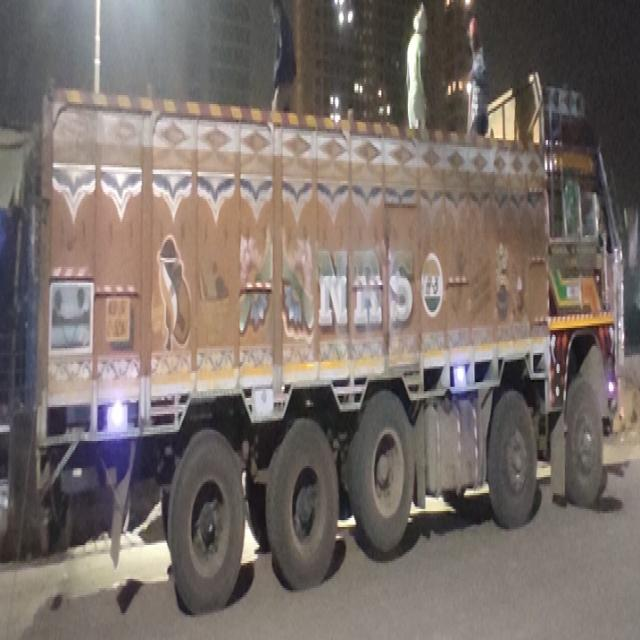truck: (30, 61, 617, 604)
